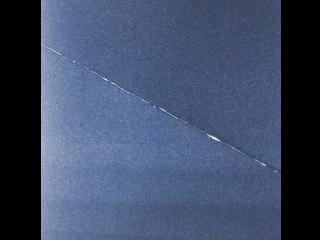crack: (40, 40, 280, 180)
